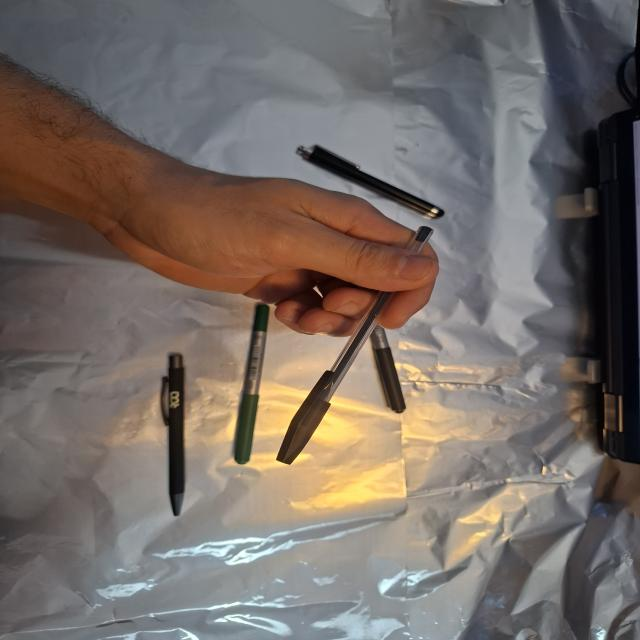glove_off: (89, 155, 444, 338)
